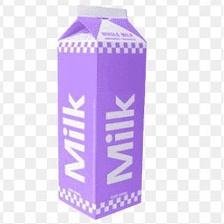carton: (52, 1, 149, 221)
